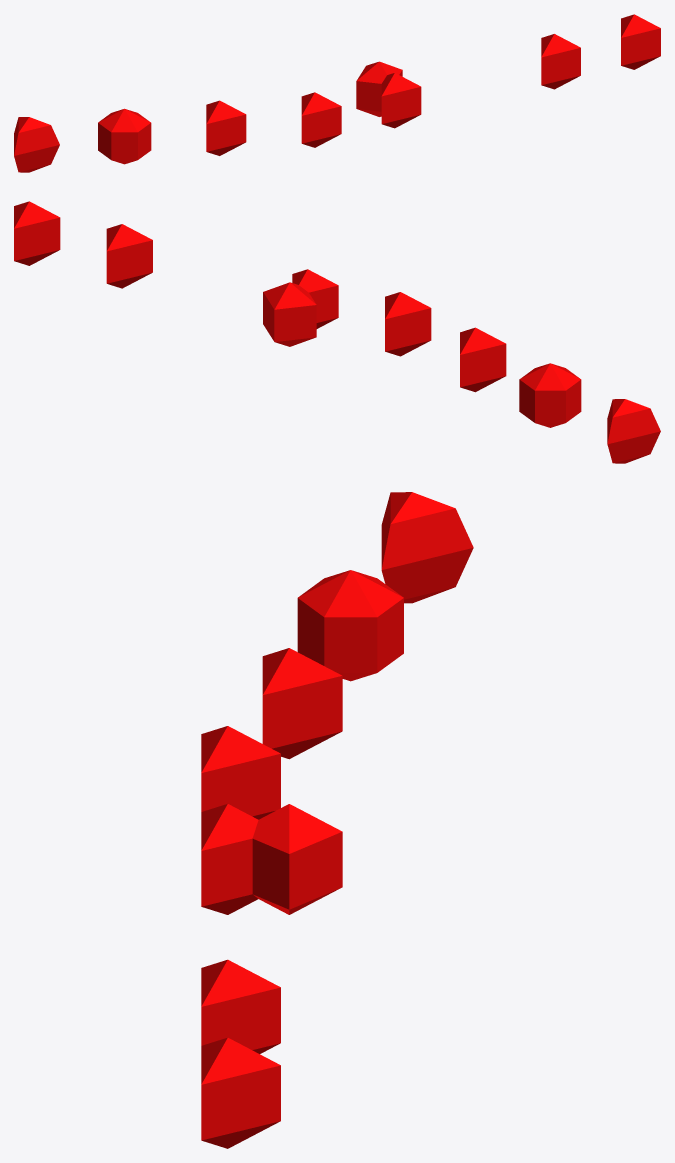
The picture shows the model from 3 angles, top to bottom: view 1: azimuth 30°, elevation 25°; view 2: azimuth 150°, elevation 25°; view 3: azimuth 270°, elevation 25°; orthographic projection. The views are drawn at different scales.
Visible parts, largest first — view 1: Sphere.001, Sphere, Sphere.003, Sphere.002, Sphere.005, Sphere.007, Sphere.008, Sphere.006; view 2: Sphere.001, Sphere.006, Sphere, Sphere.007, Sphere.002, Sphere.003, Sphere.008, Sphere.005; view 3: Sphere.001, Sphere.006, Sphere, Sphere.008, Sphere.002, Sphere.007, Sphere.003, Sphere.005.
Part boxes in pixels (bbox=[...]): Sphere.001: bbox=[98, 108, 151, 164]; Sphere: bbox=[14, 117, 59, 172]; Sphere.003: bbox=[301, 92, 341, 147]; Sphere.002: bbox=[206, 100, 246, 155]; Sphere.005: bbox=[381, 73, 421, 128]; Sphere.007: bbox=[541, 34, 580, 89]; Sphere.008: bbox=[621, 14, 660, 69]; Sphere.006: bbox=[356, 61, 402, 116]; Sphere.001: bbox=[519, 363, 581, 427]; Sphere.006: bbox=[263, 282, 316, 346]; Sphere: bbox=[607, 399, 660, 463]; Sphere.007: bbox=[106, 224, 152, 288]; Sphere.002: bbox=[460, 327, 506, 392]; Sphere.003: bbox=[385, 292, 431, 356]; Sphere.008: bbox=[14, 201, 60, 265]; Sphere.005: bbox=[292, 269, 338, 328]; Sphere.001: bbox=[297, 570, 403, 681]; Sphere.006: bbox=[252, 804, 342, 914]; Sphere: bbox=[381, 492, 473, 603]; Sphere.008: bbox=[201, 1037, 280, 1148]; Sphere.002: bbox=[262, 648, 342, 759]; Sphere.007: bbox=[201, 959, 280, 1053]; Sphere.003: bbox=[201, 726, 280, 819]; Sphere.005: bbox=[201, 804, 258, 914].
Size of the model in its own units: 22.62 by 2 by 4.43.
